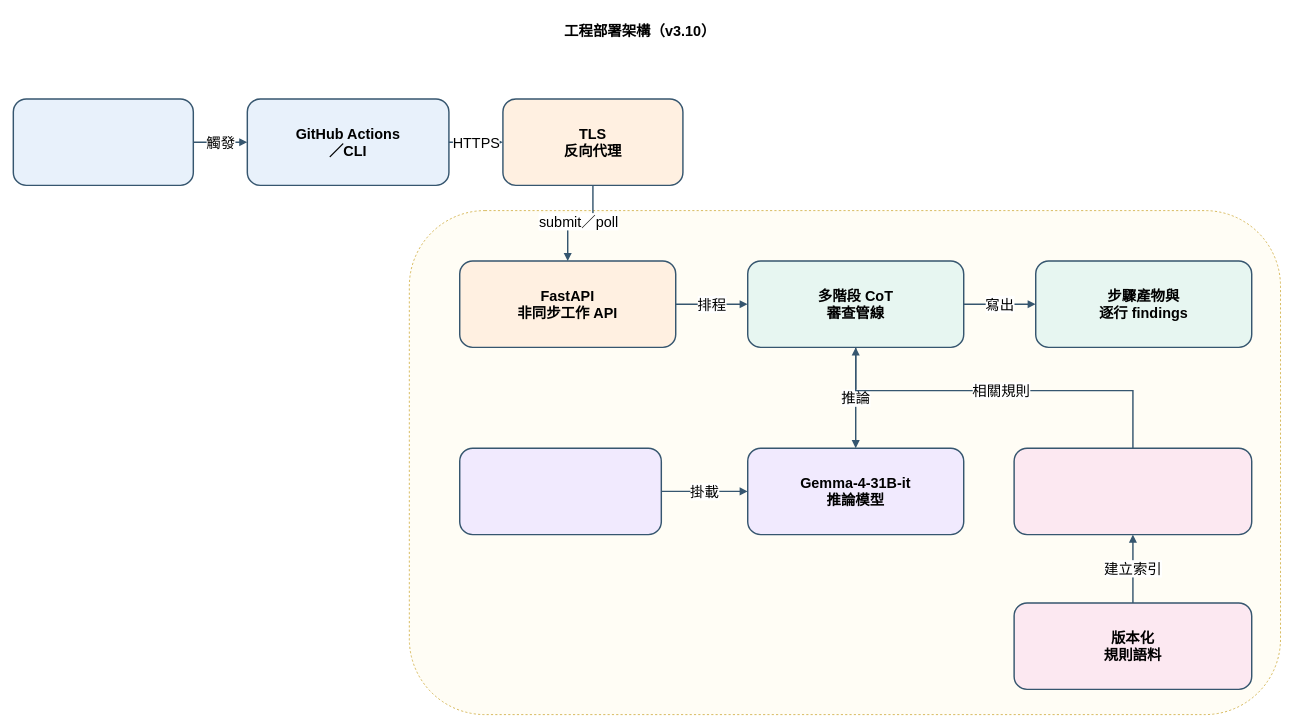
The diagram is 1293 pixels wide and 727 high, and some of its shapes have lost their labels. Each missing label, with the box of its shape:
DGX Spark／GB10 部署主機: (409, 210, 1281, 715)
EmbeddingGemma ＋FAISS 檢索: (1013, 447, 1252, 535)
GitHub Pull Request: (12, 98, 194, 186)
可選 LoRA 適配器: (459, 447, 662, 535)
